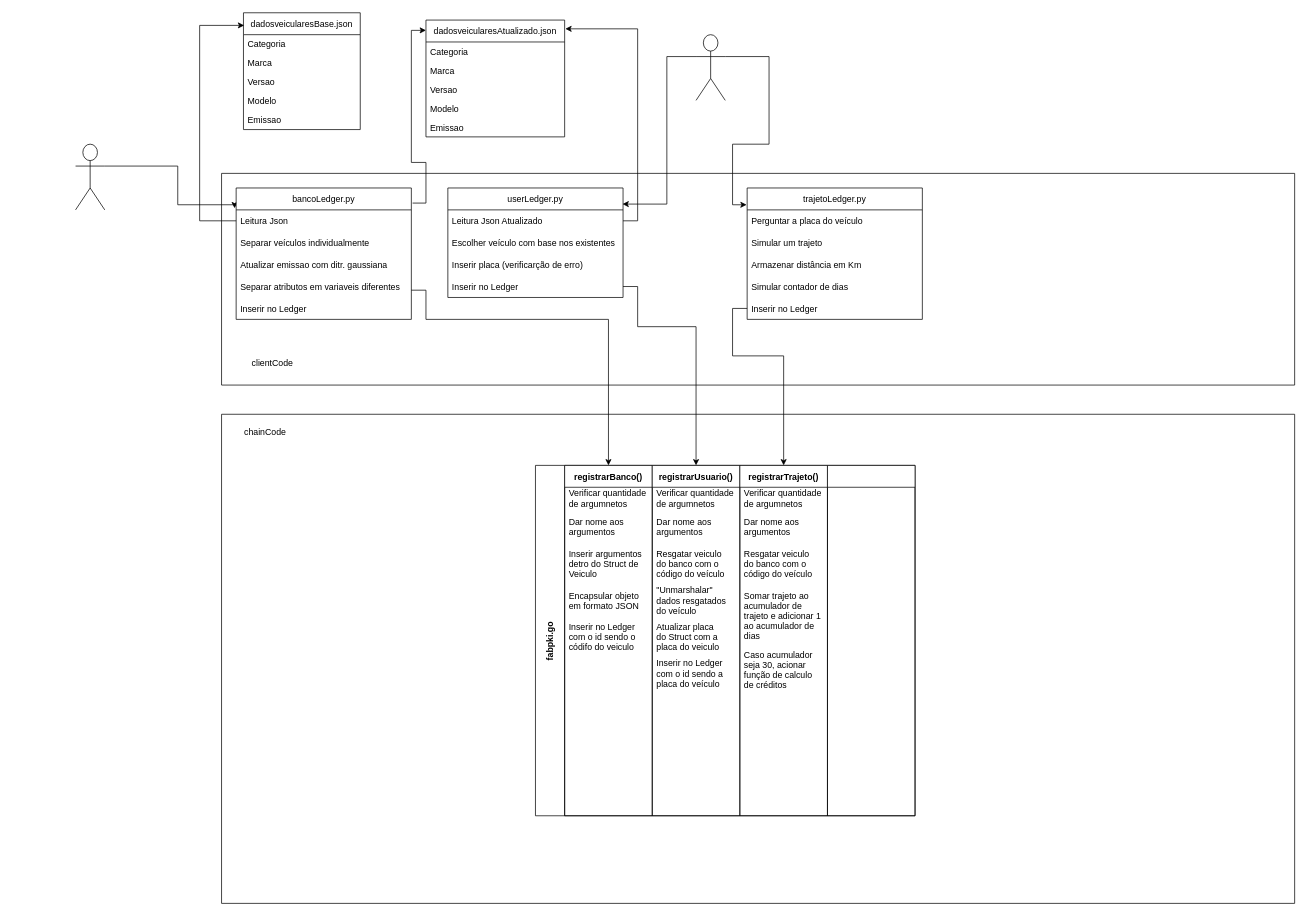
The diagram is 1307 pixels wide and 916 high, and some of its shapes have lost their labels. Here are the shapes that lost their labels. From the top down, the centre of each, then its label:
the point at 710,67: Propritério Veiculo/ Dispositivo OBD
the point at 90,176: Entidade reponsável por inserir veículos
the point at 871,640: calcularCredito()
